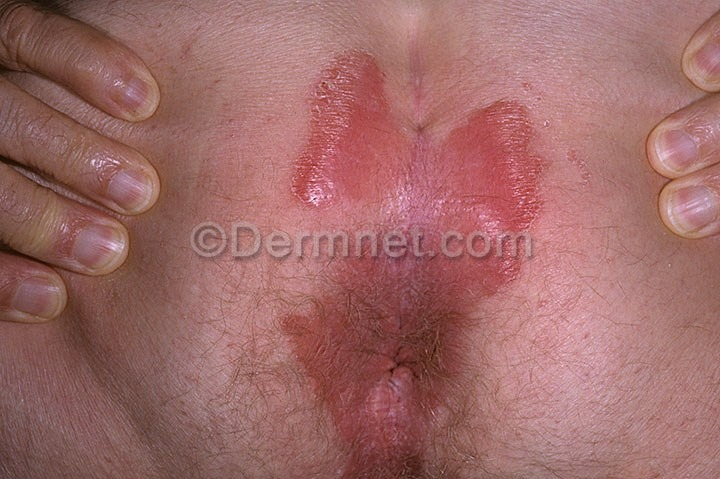Psoriasis: (273, 36, 611, 295)
